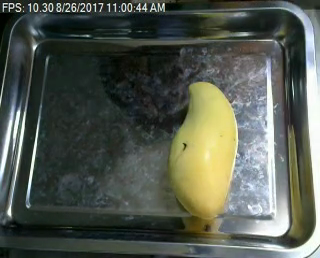Mango: (162, 78, 244, 220)
